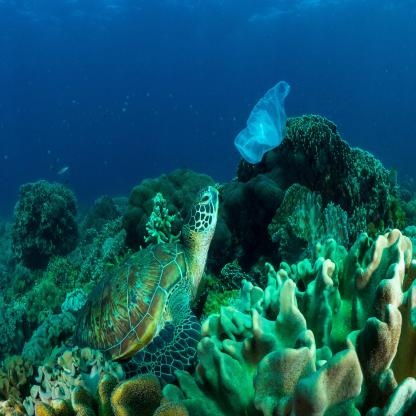pbag: (228, 77, 295, 166)
